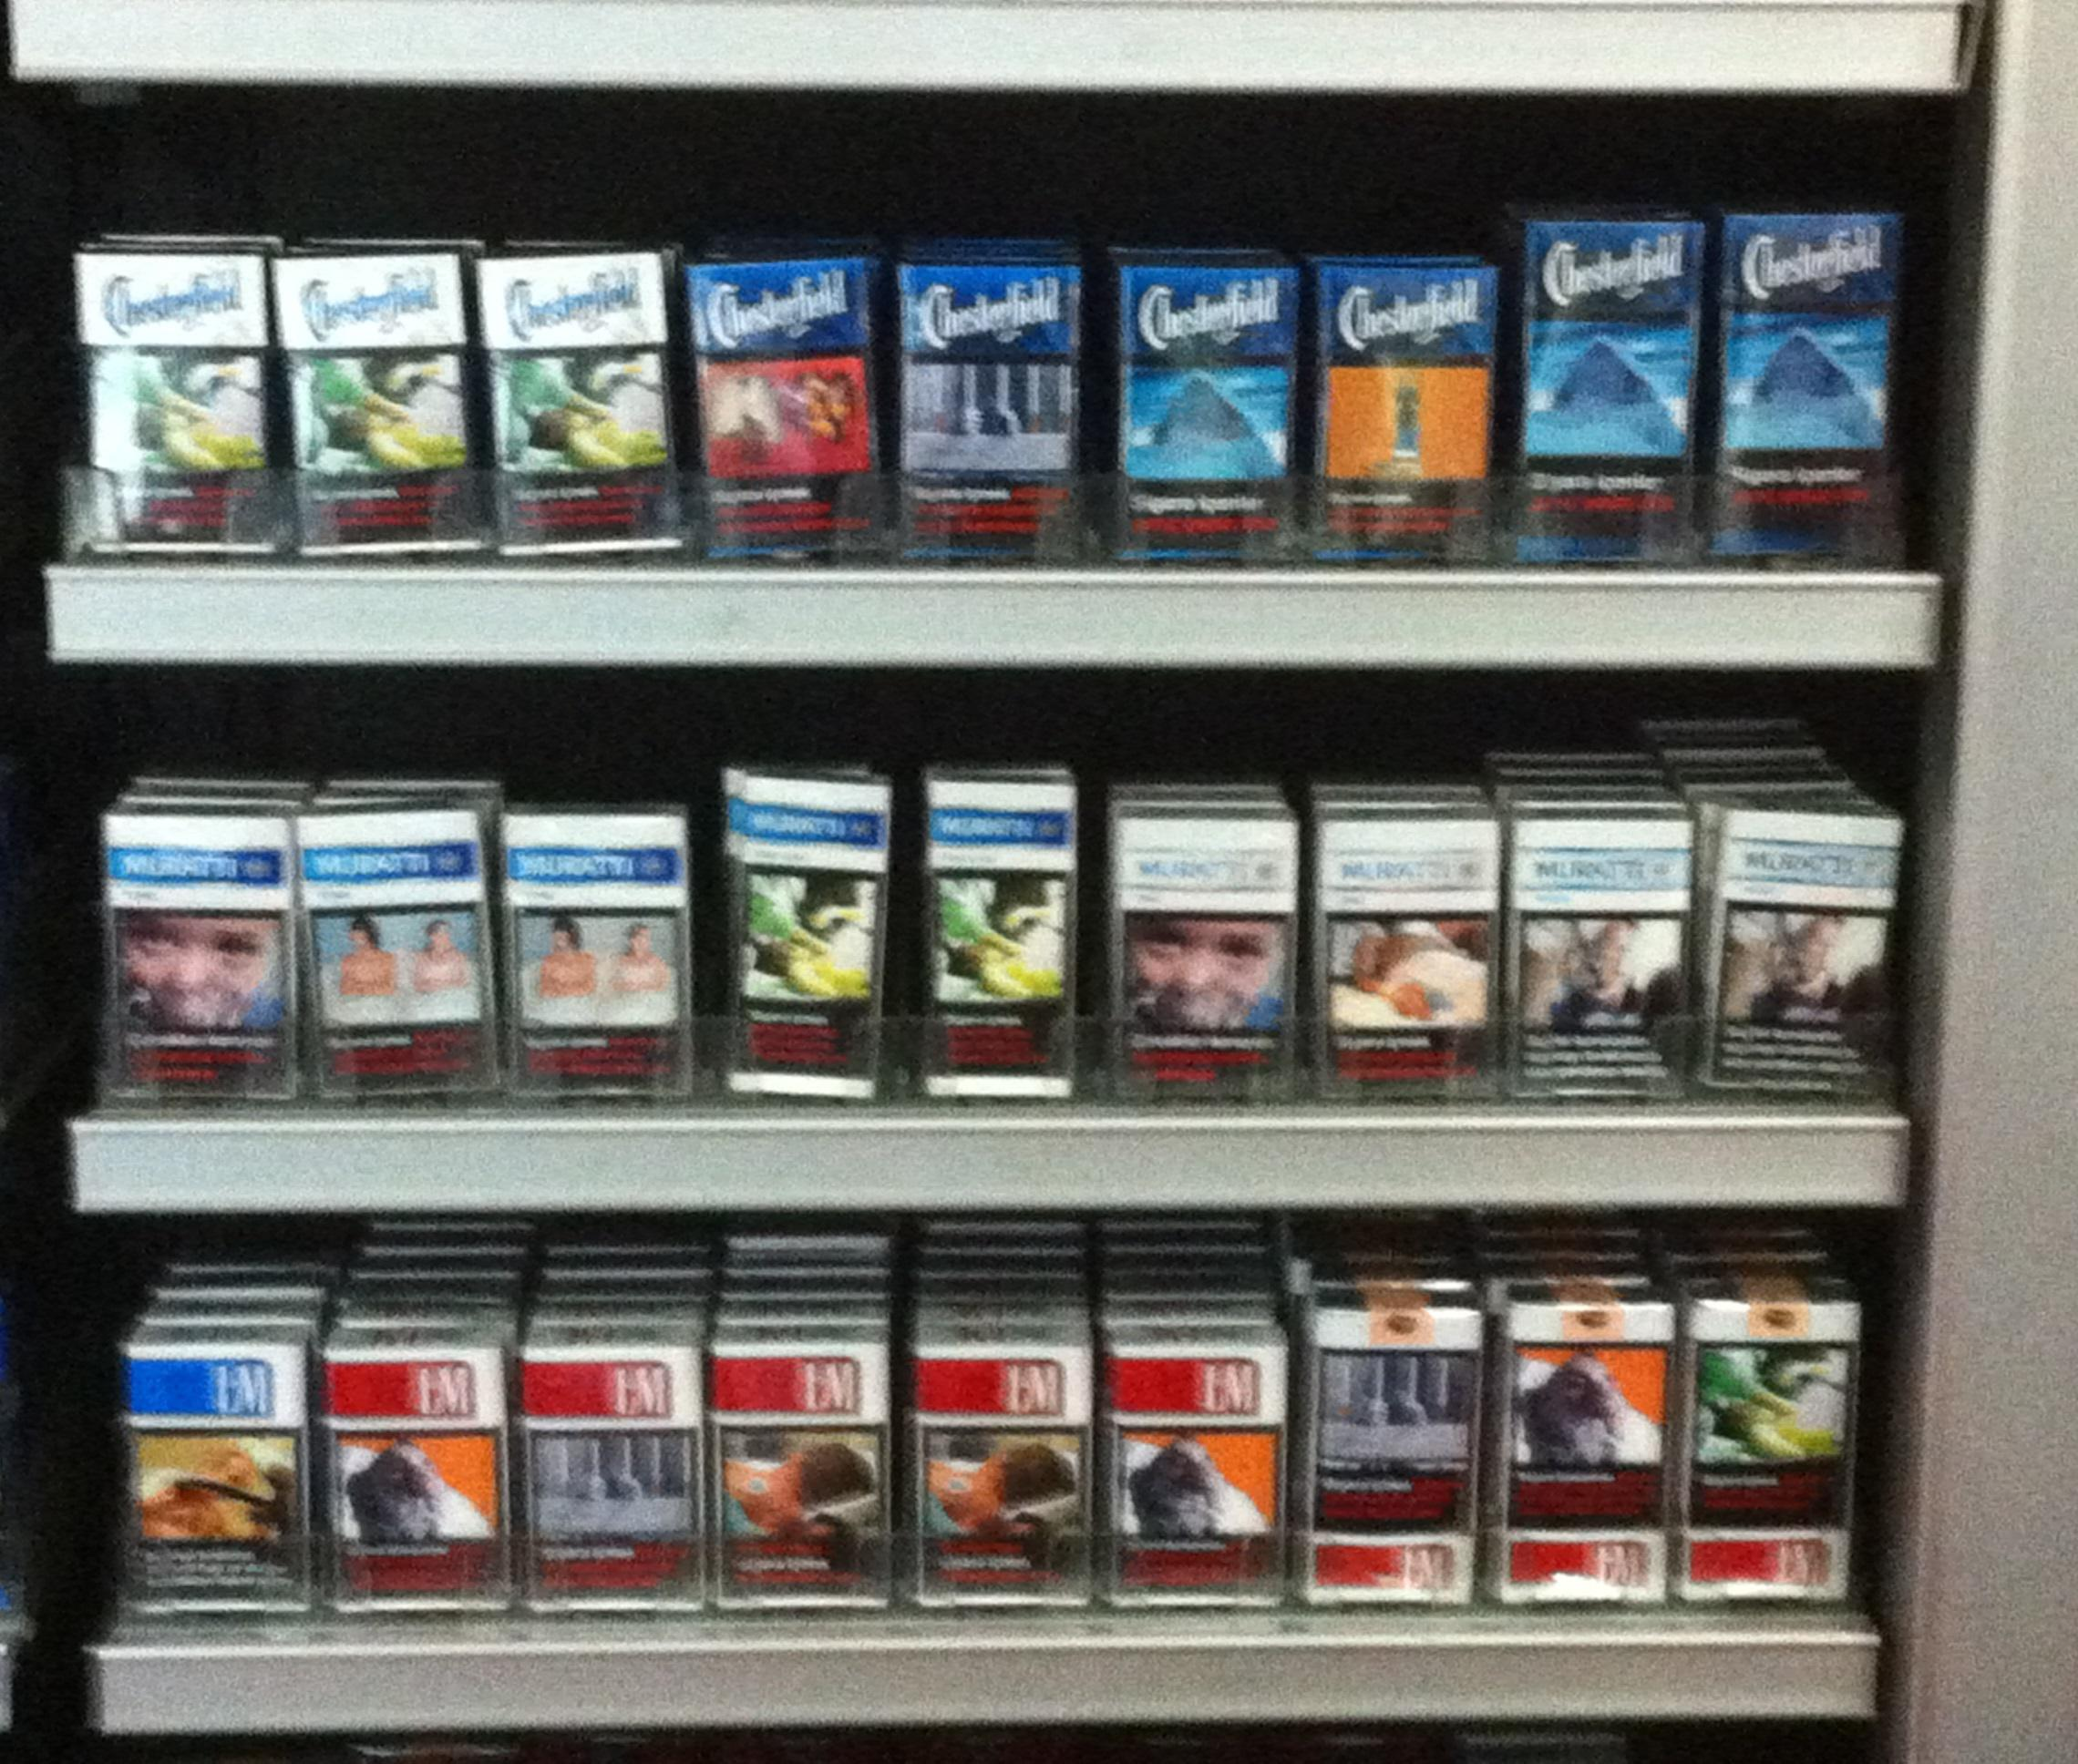product: (882, 231, 1113, 562), (1492, 212, 1721, 544), (1094, 238, 1323, 569), (1299, 231, 1528, 562), (268, 238, 497, 569), (464, 235, 693, 565), (63, 238, 292, 569), (669, 224, 898, 555), (289, 763, 490, 1109), (1710, 187, 1899, 555), (103, 767, 303, 1113), (497, 800, 697, 1109), (909, 777, 1091, 1106), (1670, 1295, 1861, 1608), (713, 770, 895, 1097), (1295, 1298, 1485, 1612), (1485, 1298, 1674, 1612), (124, 1316, 315, 1612), (704, 1339, 895, 1634), (1087, 1339, 1276, 1634), (902, 1342, 1091, 1638), (1110, 807, 1299, 1101), (1313, 803, 1502, 1097), (1507, 796, 1696, 1090), (1700, 796, 1889, 1090), (315, 1335, 504, 1629), (501, 1335, 690, 1629)
